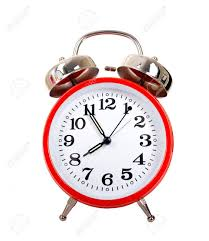alarm_clock: (41, 23, 173, 220)
